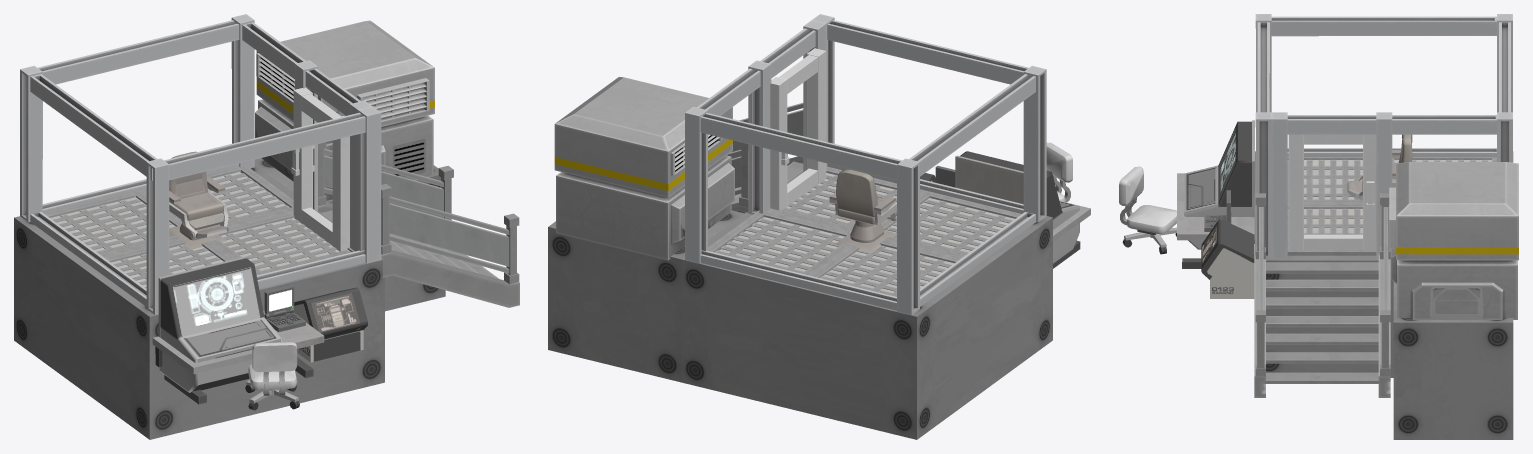
The model's file is Pfb_ObservationDeck_Temp__4.fbx.
3 renders of one model, left to right at view 1: azimuth 30°, elevation 25°; view 2: azimuth 150°, elevation 25°; view 3: azimuth 270°, elevation 25°, orthographic. The views are drawn at different scales.
Visible parts, largest first — view 1: Mat_SteelFrame_01, MAT_ScalableMesh_01, Mat_Ventilation_Soda, Mat_Stairs_Soda, Mat_Network_01_2, MAT_Soda_Instruments_Grey 6, Mat_TS_Metall 2, Mat_Tile_Color_01 7, MAT_Soda_Instruments_Grey 7, Mat_Tile_Color_07 2, Mat_Chair_01, Mat_Table_01 (+2 smaller); view 2: MAT_ScalableMesh_01, Mat_SteelFrame_01, Mat_Ventilation_Soda, Mat_Network_01_2, Mat_TS_Metall 2, Mat_Tile_Color_01 7, Mat_Tile_Color_07 2, Mat_CementMold_1, Mat_Stairs_Soda, MAT_Soda_Instruments_Grey 6, Mat_Chair_01, Mat_Table_01; view 3: MAT_ScalableMesh_01, Mat_Ventilation_Soda, Mat_SteelFrame_01, Mat_Stairs_Soda, Mat_TS_Metall 2, Mat_Network_01_2, MAT_Soda_Instruments_Grey 6, MAT_Soda_Instruments_Grey 7, Mat_Chair_01, Mat_Tile_Color_01 7, Mat_Table_01, Mat_Tile_Color_07 2 (+1 smaller).
Part boxes in pixels (<box>): Mat_SteelFrame_01: <box>20,14,381,314</box>; MAT_ScalableMesh_01: <box>14,158,445,439</box>; Mat_Ventilation_Soda: <box>255,20,434,200</box>; Mat_Stairs_Soda: <box>318,142,519,307</box>; Mat_Network_01_2: <box>37,165,354,296</box>; MAT_Soda_Instruments_Grey 6: <box>159,258,282,392</box>; Mat_TS_Metall 2: <box>293,88,349,251</box>; Mat_Tile_Color_01 7: <box>50,172,339,286</box>; MAT_Soda_Instruments_Grey 7: <box>293,287,367,362</box>; Mat_Tile_Color_07 2: <box>169,151,226,249</box>; Mat_Chair_01: <box>245,342,299,410</box>; Mat_Table_01: <box>152,310,324,404</box>; MAT_ScalableMesh_01: <box>548,171,1052,439</box>; Mat_SteelFrame_01: <box>685,14,1046,315</box>; Mat_Ventilation_Soda: <box>554,77,734,260</box>; Mat_Network_01_2: <box>708,166,1028,296</box>; Mat_TS_Metall 2: <box>770,48,826,210</box>; Mat_Tile_Color_01 7: <box>719,173,1014,293</box>; Mat_Tile_Color_07 2: <box>829,169,896,253</box>; Mat_CementMold_1: <box>955,155,1023,204</box>; Mat_Stairs_Soda: <box>727,102,803,213</box>; MAT_Soda_Instruments_Grey 6: <box>960,151,1079,263</box>; Mat_Chair_01: <box>1046,142,1072,202</box>; Mat_Table_01: <box>1053,201,1090,268</box>; MAT_ScalableMesh_01: <box>1254,151,1513,439</box>; Mat_Ventilation_Soda: <box>1389,162,1518,319</box>; Mat_SteelFrame_01: <box>1255,14,1512,259</box>; Mat_Stairs_Soda: <box>1254,193,1390,397</box>; Mat_TS_Metall 2: <box>1288,134,1376,250</box>; Mat_Network_01_2: <box>1287,157,1496,255</box>; MAT_Soda_Instruments_Grey 6: <box>1184,121,1251,249</box>; MAT_Soda_Instruments_Grey 7: <box>1201,219,1254,298</box>; Mat_Chair_01: <box>1119,166,1176,254</box>; Mat_Tile_Color_01 7: <box>1304,160,1491,233</box>; Mat_Table_01: <box>1177,173,1254,268</box>; Mat_Tile_Color_07 2: <box>1348,134,1412,194</box>.
Bounding box in the file's own units: 6.29 × 4.39 × 6.18.
16 materials, 16 textured.
